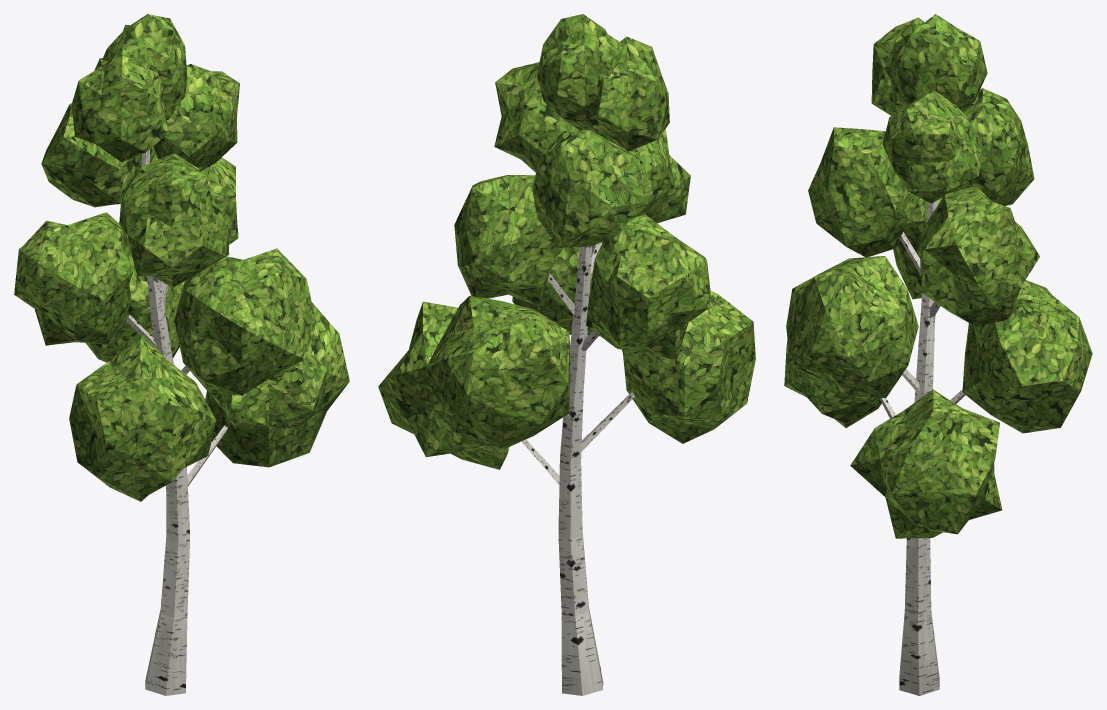
The model's file is birch.glb.
3 renders of one model, left to right at view 1: azimuth 30°, elevation 25°; view 2: azimuth 150°, elevation 25°; view 3: azimuth 270°, elevation 25°, orthographic. The views are drawn at different scales.
Visible parts, largest first — view 1: Birch; view 2: Birch; view 3: Birch.
Part boxes in pixels (bbox=[...]): Birch: bbox=[14, 14, 349, 695]; Birch: bbox=[378, 14, 755, 695]; Birch: bbox=[784, 14, 1092, 695].
Bounding box in the file's own units: 3.97 × 8.21 × 3.44.
Materials: 2 (2 with a texture image).
